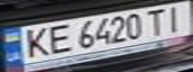0: (124, 11, 148, 40)
2: (109, 12, 130, 44)
4: (93, 16, 115, 47)
6: (75, 18, 96, 50)
E: (42, 21, 75, 55)
I: (160, 2, 190, 33)
K: (18, 25, 54, 60)
T: (142, 7, 172, 36)
